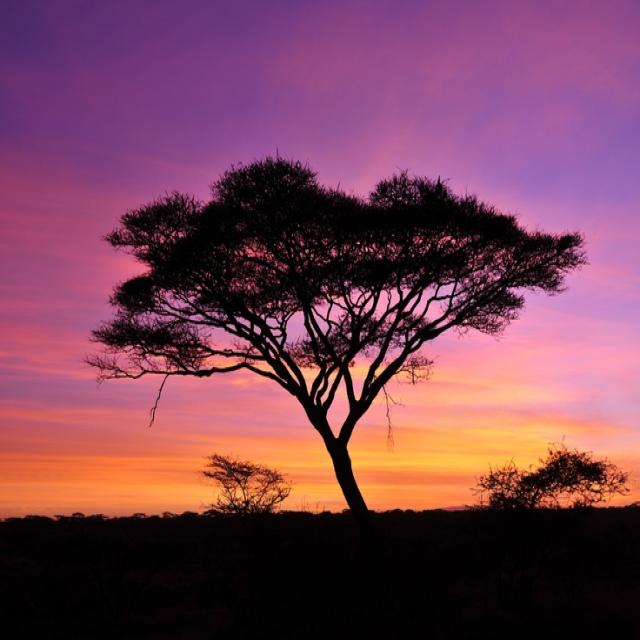Acacia: (123, 155, 492, 497)
